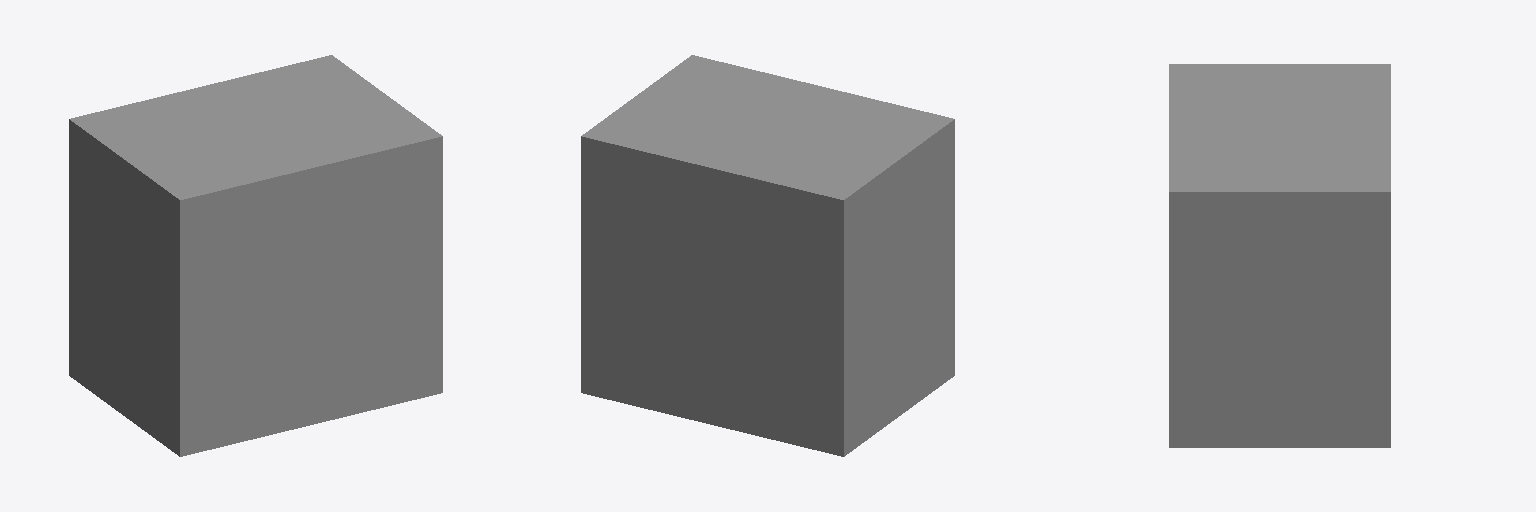
Rendered from lim_mask.obj.
3 renders of one model, left to right at view 1: azimuth 30°, elevation 25°; view 2: azimuth 150°, elevation 25°; view 3: azimuth 270°, elevation 25°, orthographic.
Size of the model in its own units: 1.5 by 1.4 by 1.1.